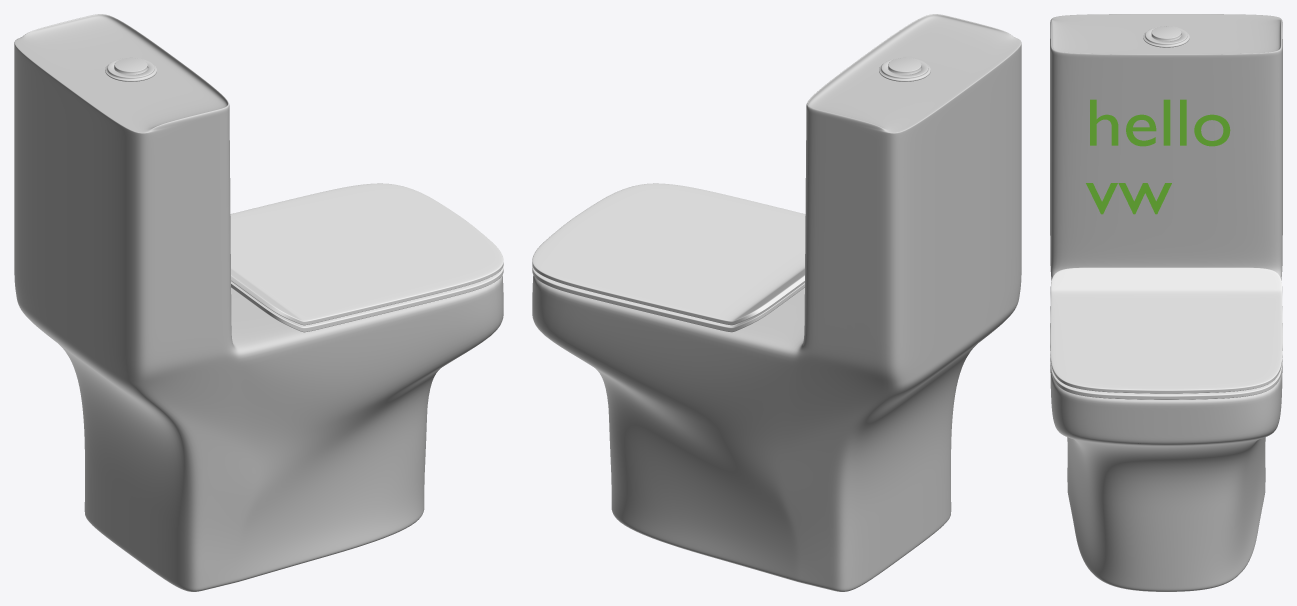
Rendered from sassy.glb.
3 renders of one model, left to right at view 1: azimuth 30°, elevation 25°; view 2: azimuth 150°, elevation 25°; view 3: azimuth 270°, elevation 25°, orthographic. The views are drawn at different scales.
Visible parts, largest first — view 1: cube; view 2: cube; view 3: cube, Text.
Boxes of the visible parts, left/top/right/bottom form: cube: left=14, top=14, right=503, bottom=591; cube: left=532, top=14, right=1021, bottom=591; cube: left=1050, top=14, right=1282, bottom=591; Text: left=1086, top=99, right=1230, bottom=214.
Bounding box in the file's own units: 1.29 × 1.53 × 0.7308.
